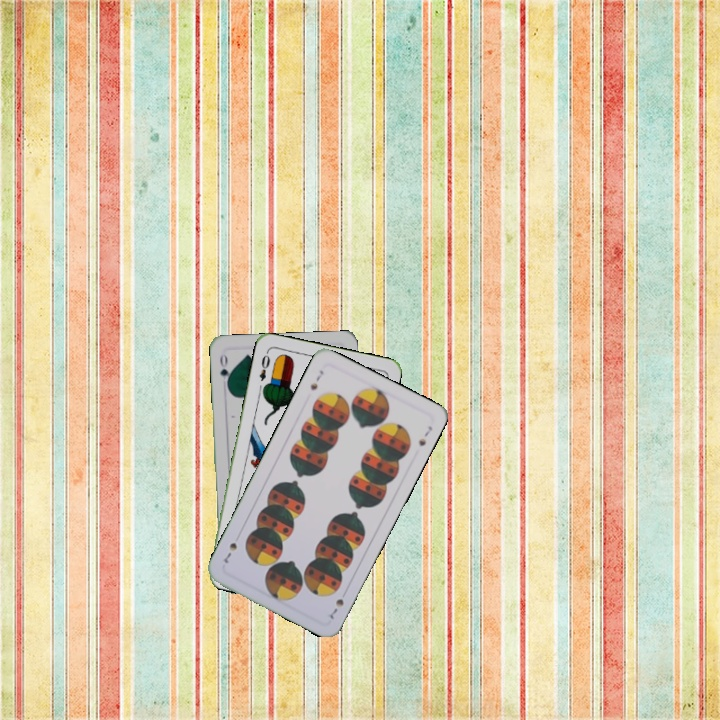EO: (255, 351, 273, 384)
GO: (216, 350, 233, 390)
S7: (325, 594, 347, 622), (306, 366, 326, 393)
